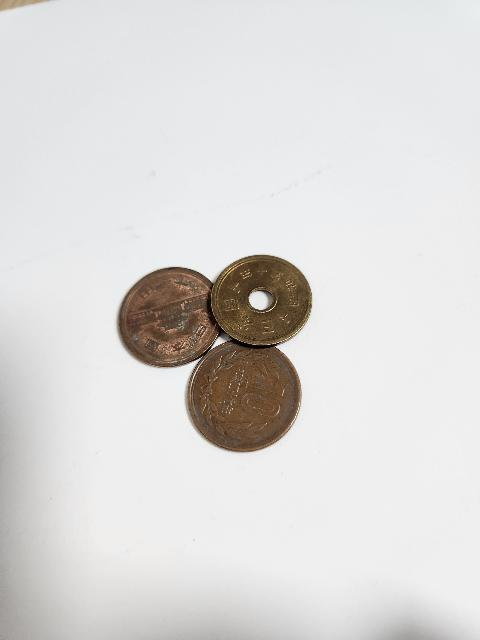coin: (186, 338, 303, 452), (118, 266, 222, 364), (212, 252, 314, 346)
